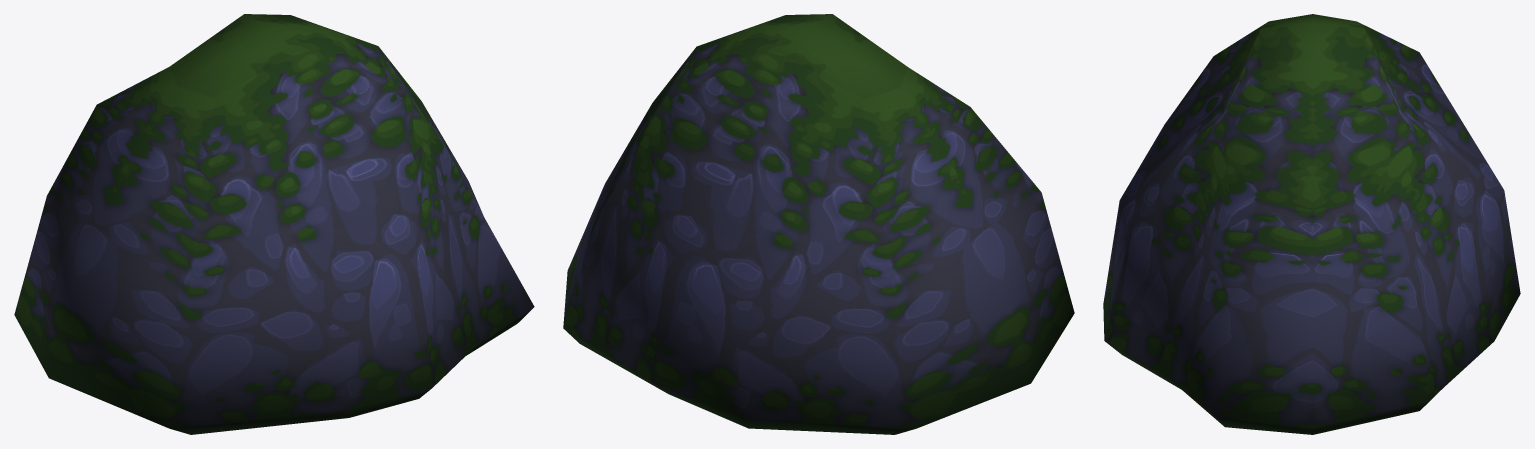
File: Rock_04d.FBX
The picture shows the model from 3 angles, left to right: view 1: azimuth 30°, elevation 25°; view 2: azimuth 150°, elevation 25°; view 3: azimuth 270°, elevation 25°; orthographic projection. The views are drawn at different scales.
Parts seen in each view (by area): view 1: Rock_04d; view 2: Rock_04d; view 3: Rock_04d.
Boxes of the visible parts, left/top/right/bottom form: Rock_04d: left=14, top=14, right=534, bottom=434; Rock_04d: left=563, top=14, right=1074, bottom=434; Rock_04d: left=1103, top=14, right=1520, bottom=434.
Bounding box in the file's own units: 73.21 × 47.85 × 59.02.
